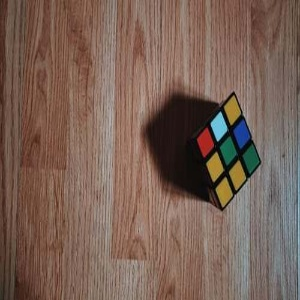cube: (191, 89, 262, 211)
